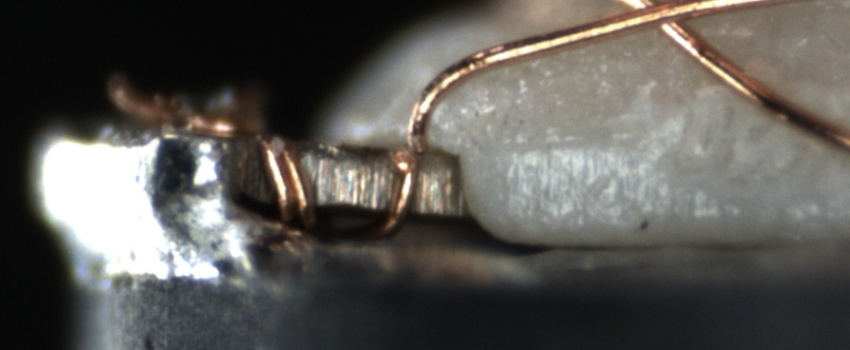CL: (607, 2, 712, 43)
DL: (511, 118, 631, 173)
TE: (109, 69, 423, 237)
